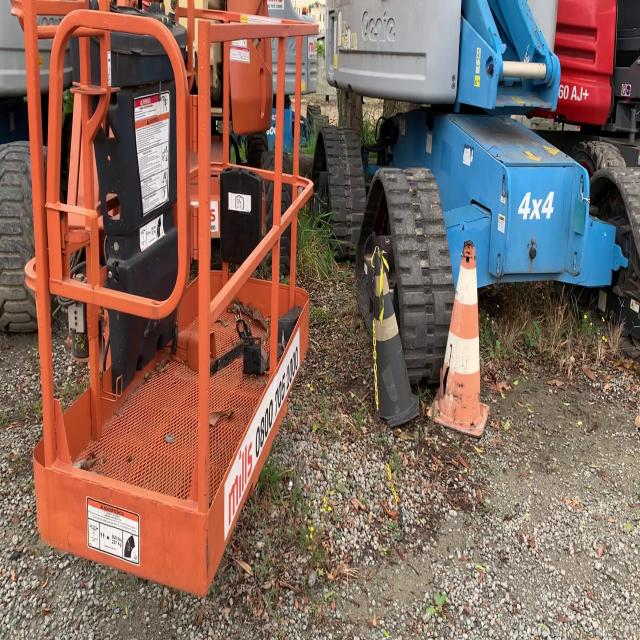Adesivo Longo: (223, 323, 303, 547)
